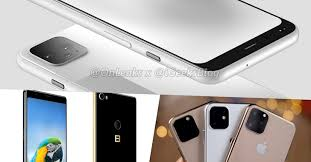bphone: (17, 89, 70, 162), (88, 89, 141, 162)
